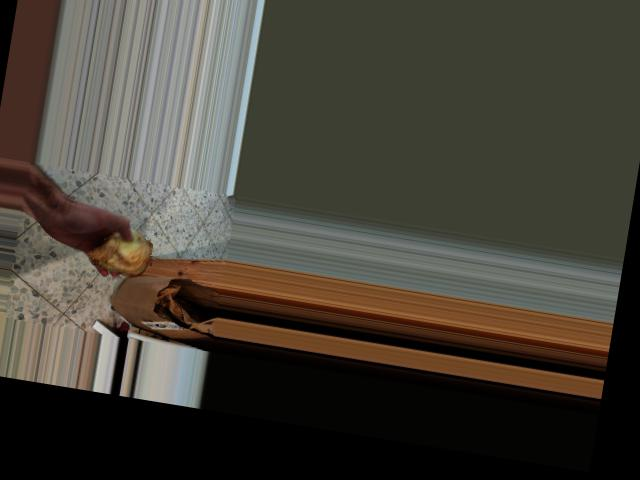onion: (83, 220, 158, 280)
